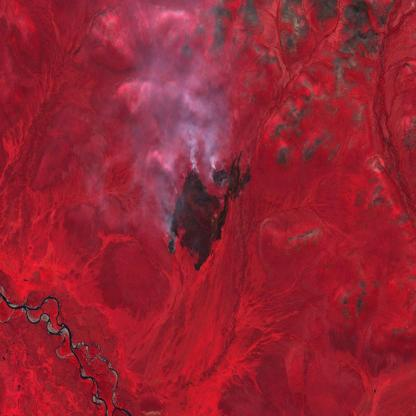fire: (164, 159, 230, 275)
